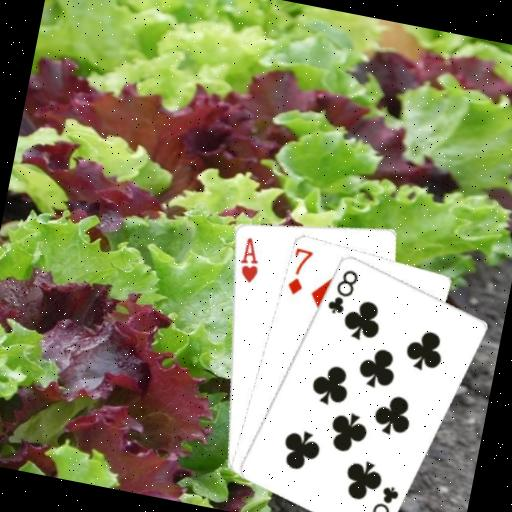7D: (284, 244, 316, 298)
8C: (323, 263, 362, 318), (363, 478, 402, 512)
AH: (234, 233, 266, 286)
